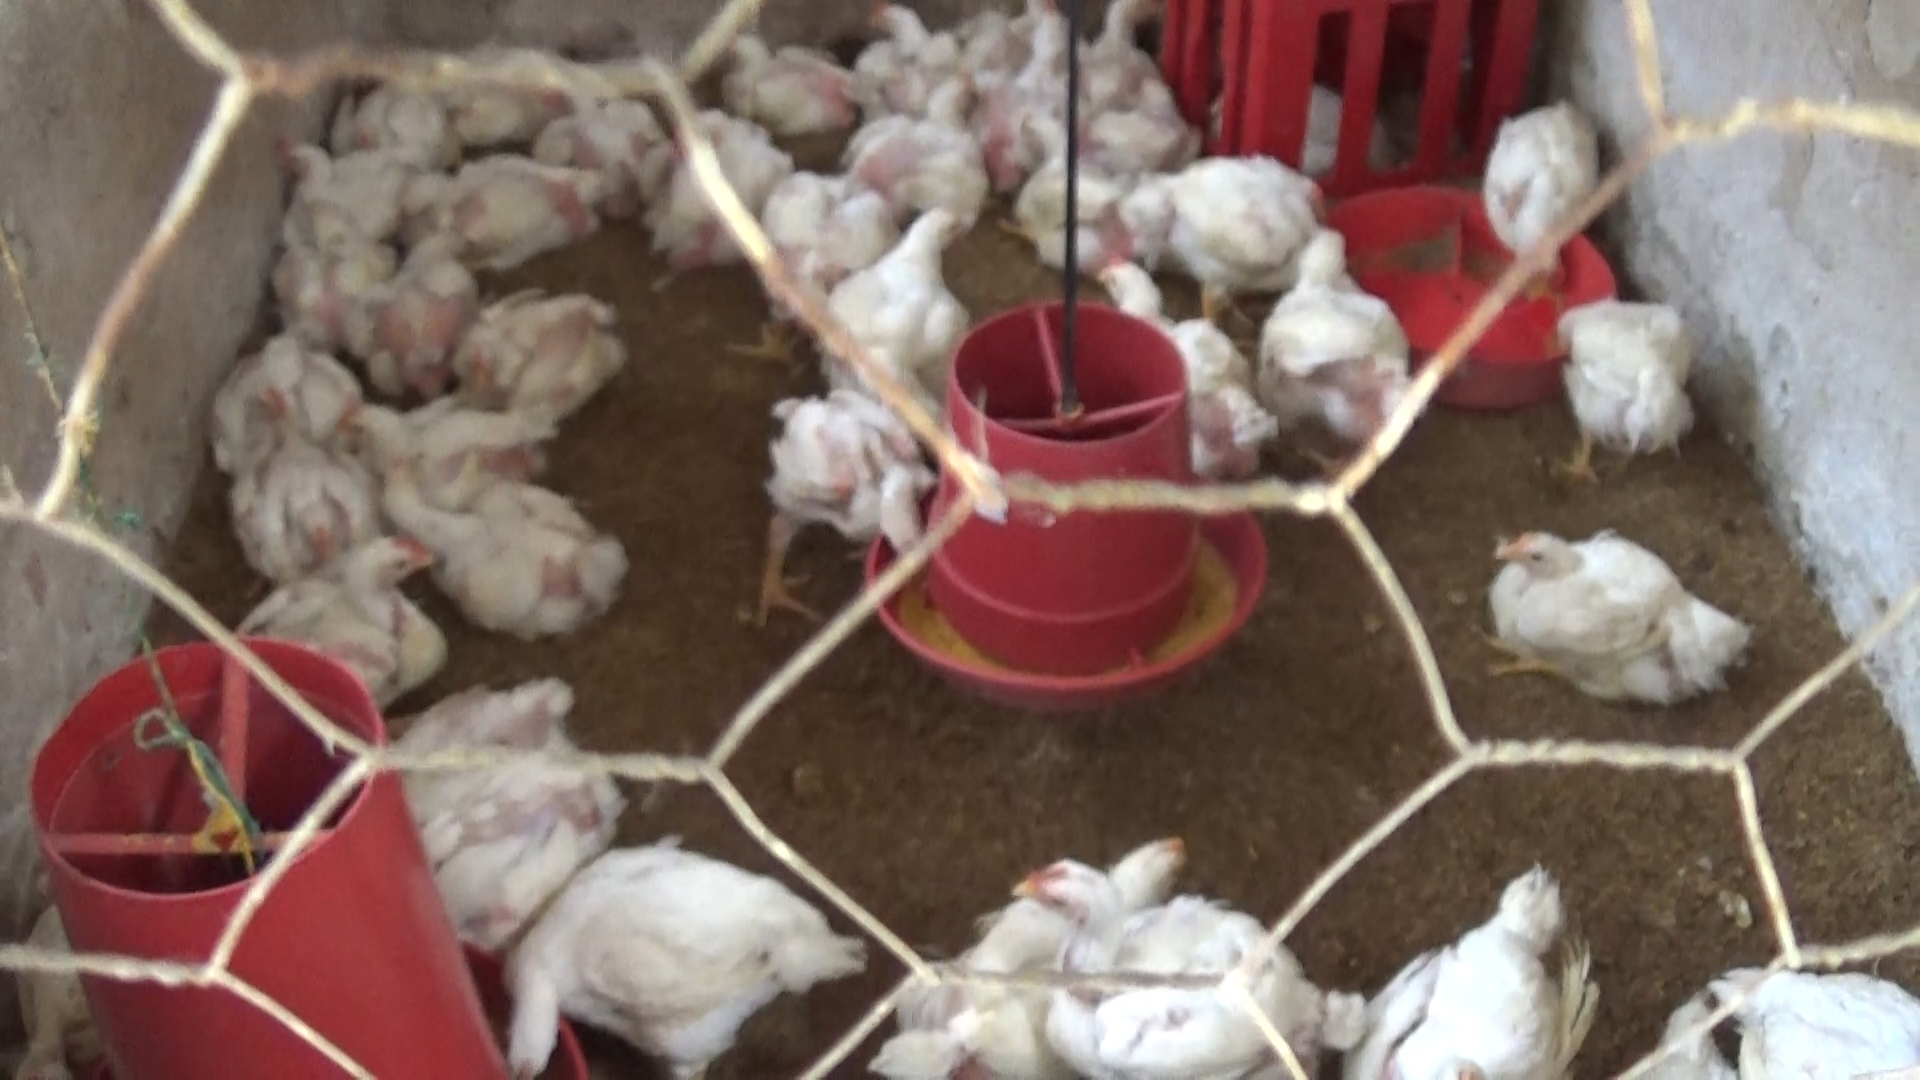Pollos: (489, 822, 890, 1080), (996, 845, 1352, 1080), (872, 816, 1171, 1079), (1332, 843, 1617, 1080), (392, 680, 633, 930), (1474, 502, 1749, 705), (376, 447, 641, 654), (738, 360, 945, 620), (1255, 225, 1436, 456), (1087, 243, 1269, 458), (812, 200, 998, 392), (251, 529, 452, 702), (1551, 286, 1721, 481), (1451, 96, 1631, 276), (316, 393, 592, 506), (446, 277, 653, 415), (1133, 160, 1336, 301), (622, 87, 793, 255), (365, 148, 597, 266), (208, 377, 352, 560), (245, 202, 386, 364), (348, 239, 485, 400), (702, 22, 880, 135), (264, 115, 410, 243), (1025, 109, 1139, 266), (856, 73, 985, 203), (848, 0, 967, 94), (1098, 0, 1178, 88)
